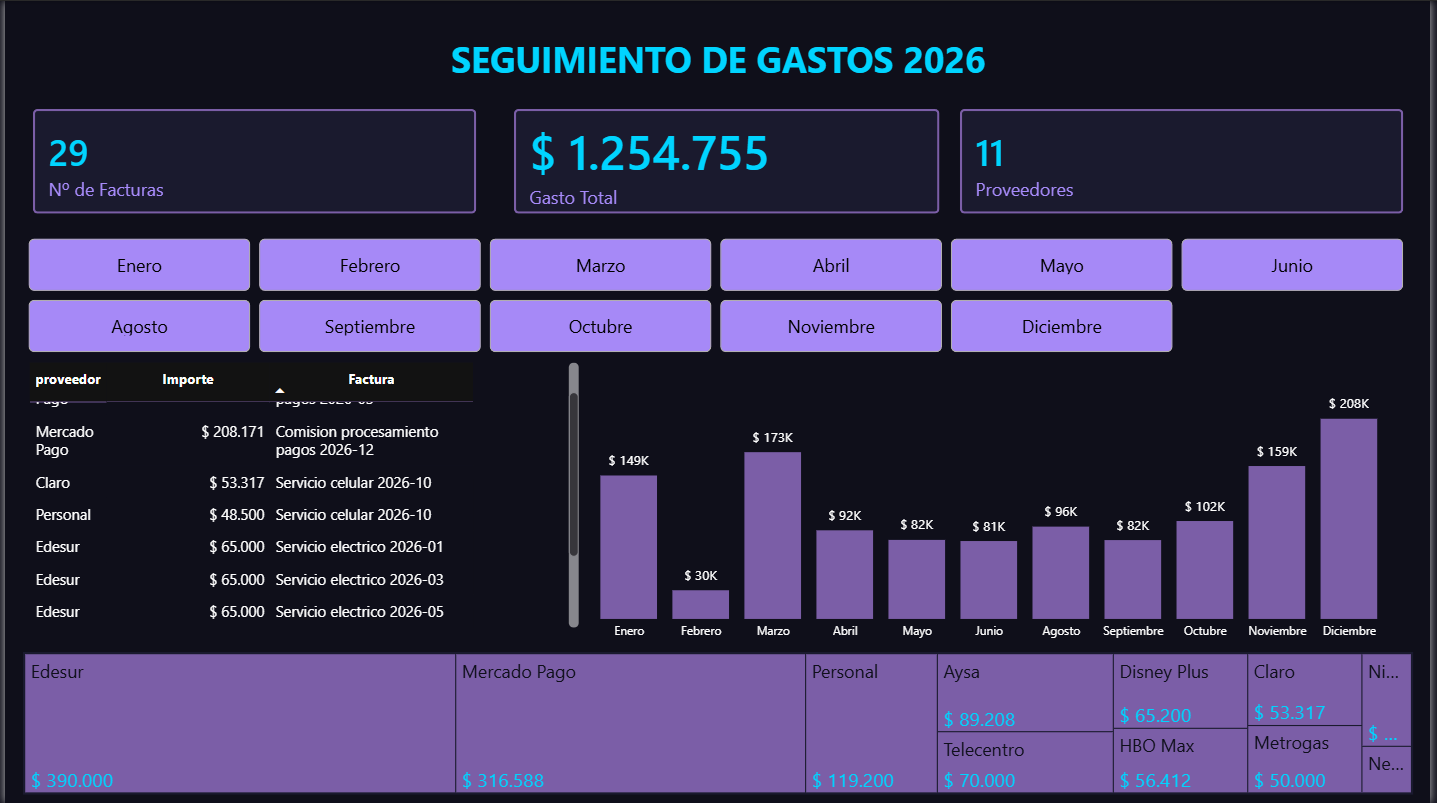

Layout of this report page (visuals, bound fields, positions):
{"tool":"powerbi","page":{"name":"SEGUIMIENTO DE GASTOS","canvas":[1280,720],"ordinal":0},"visuals":[{"type":"columnChart","fields":{"Category":["facturas.Mes"],"Y":["Sum(facturas.importe)"]},"box":[504,336,760,248],"z":0},{"type":"treemap","fields":{"Group":["facturas.proveedor"],"Values":["Sum(facturas.importe)"]},"box":[16,584,1248,128],"z":1000},{"type":"advancedSlicerVisual","fields":{"Values":["facturas.Mes"]},"box":[16,208,1248,112],"z":2000},{"type":"tableEx","fields":{"Values":["facturas.proveedor","Sum(facturas.importe)","facturas.concepto"]},"box":[16,320,504,248],"z":3000},{"type":"cardVisual","fields":{"Data":["facturas.Gasto Total"]},"box":[440,80,416,128],"z":4000},{"type":"cardVisual","fields":{"Data":["CountNonNull(facturas.archivo)"]},"box":[8,80,432,128],"z":5000},{"type":"cardVisual","fields":{"Data":["Count(facturas.proveedor)"]},"box":[840,80,432,128],"z":6000},{"type":"textbox","box":[16,24,1248,56],"z":7000}]}

Visuals, with their boxes in screenshot pixels (x1, y1, x2, y2), scaled from the page's 1280x720 canvas onto the 1437x803 screenshot:
columnChart - facturas.Mes x Sum(facturas.importe): [566,375,1419,651]
treemap - facturas.proveedor x Sum(facturas.importe): [18,651,1419,794]
advancedSlicerVisual - facturas.Mes: [18,232,1419,357]
tableEx - facturas.proveedor x Sum(facturas.importe): [18,357,584,633]
cardVisual - facturas.Gasto Total: [494,89,961,232]
cardVisual - CountNonNull(facturas.archivo): [9,89,494,232]
cardVisual - Count(facturas.proveedor): [943,89,1428,232]
textbox: [18,27,1419,89]
